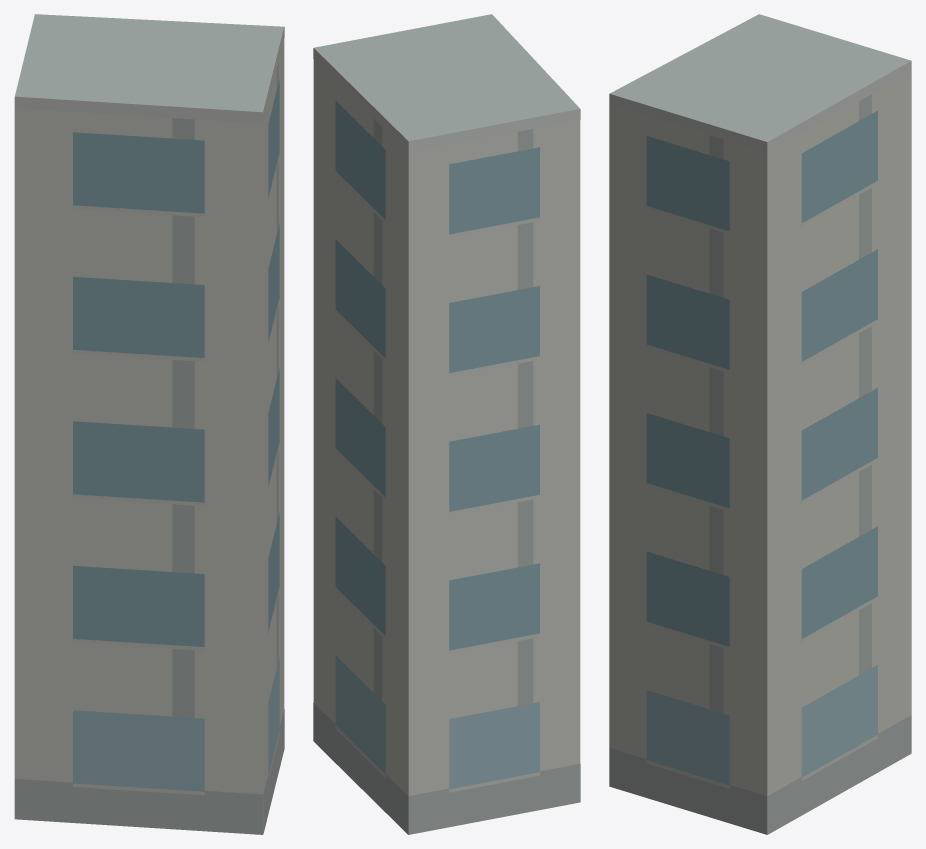
Rendered from survey-upis-32673201.glb.
The picture shows the model from 3 angles, left to right: view 1: azimuth 30°, elevation 25°; view 2: azimuth 150°, elevation 25°; view 3: azimuth 270°, elevation 25°; orthographic projection. The views are drawn at different scales.
Visible parts, largest first — view 1: survey-upis-32673201.tmp; view 2: survey-upis-32673201.tmp; view 3: survey-upis-32673201.tmp.
Boxes of the visible parts, x1,y1,x2,y2 form: survey-upis-32673201.tmp: [14, 14, 284, 834]; survey-upis-32673201.tmp: [313, 14, 580, 834]; survey-upis-32673201.tmp: [609, 14, 911, 834].
Bounding box in the file's own units: 6.05 × 15.25 × 6.04.
